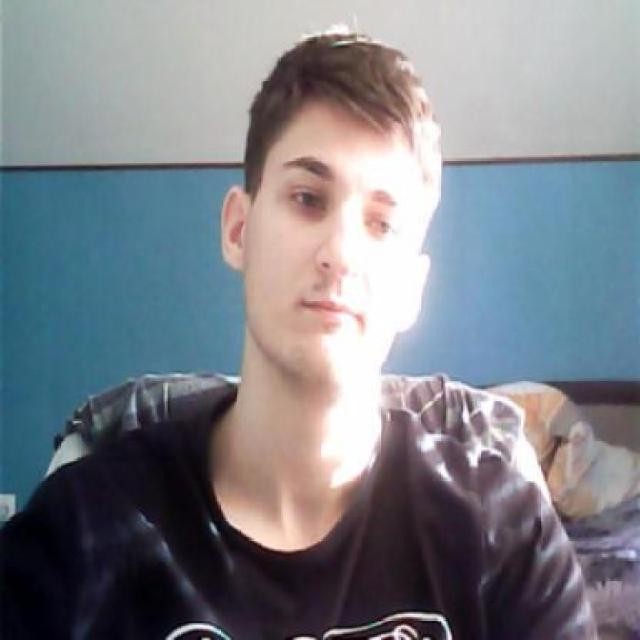awake: (289, 188, 326, 212), (366, 215, 399, 240)
